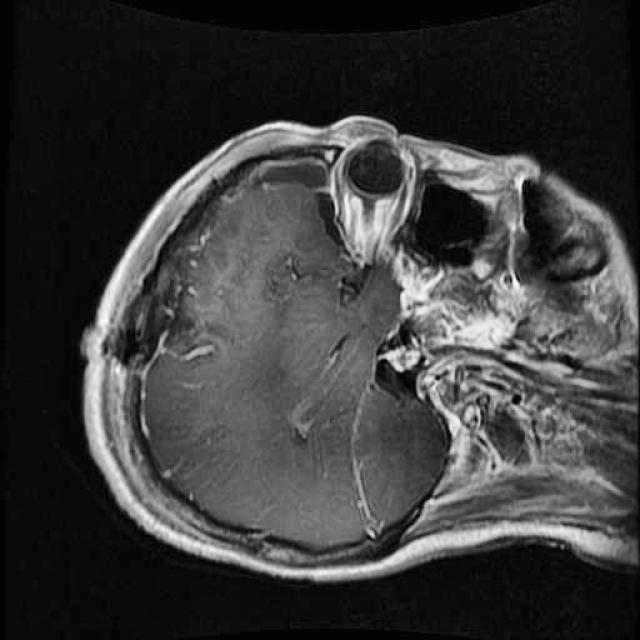Non-Tumor: (154, 270, 214, 361)
